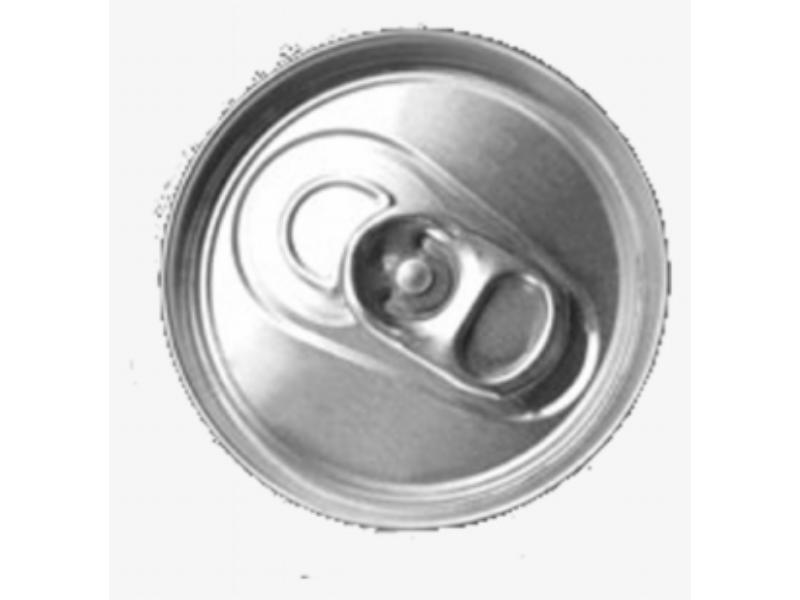can: (145, 18, 684, 541)
